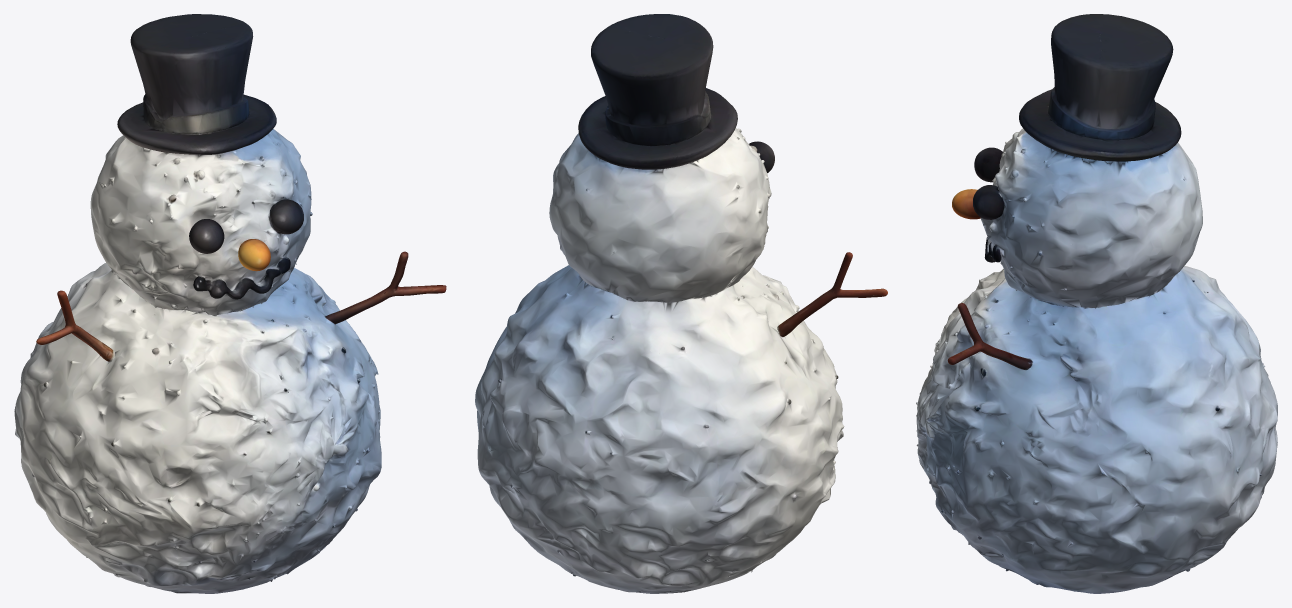
The model's file is snowman.glb.
3 renders of one model, left to right at view 1: azimuth 30°, elevation 25°; view 2: azimuth 150°, elevation 25°; view 3: azimuth 270°, elevation 25°, orthographic.
Visible parts, largest first — view 1: tripo_part_0, tripo_part_1, tripo_part_2, tripo_part_3, tripo_part_5, tripo_part_4, tripo_part_6; view 2: tripo_part_0, tripo_part_1, tripo_part_2, tripo_part_5; view 3: tripo_part_0, tripo_part_1, tripo_part_2, tripo_part_3, tripo_part_4, tripo_part_6.
Boxes of the visible parts, x1,y1,x2,y2 form: tripo_part_0: [14, 263, 381, 593]; tripo_part_1: [90, 128, 312, 314]; tripo_part_2: [117, 14, 276, 154]; tripo_part_3: [326, 251, 446, 324]; tripo_part_5: [36, 290, 114, 362]; tripo_part_4: [189, 219, 224, 253]; tripo_part_6: [238, 239, 270, 271]; tripo_part_0: [475, 265, 844, 593]; tripo_part_1: [549, 128, 771, 302]; tripo_part_2: [578, 14, 737, 169]; tripo_part_5: [777, 252, 887, 336]; tripo_part_0: [916, 265, 1277, 593]; tripo_part_1: [973, 128, 1202, 308]; tripo_part_2: [1019, 14, 1181, 161]; tripo_part_3: [947, 303, 1032, 369]; tripo_part_4: [974, 147, 1002, 182]; tripo_part_6: [952, 189, 980, 219].
Bounding box in the file's own units: 0.7108 × 0.9797 × 0.6032.
7 materials, 7 textured.
